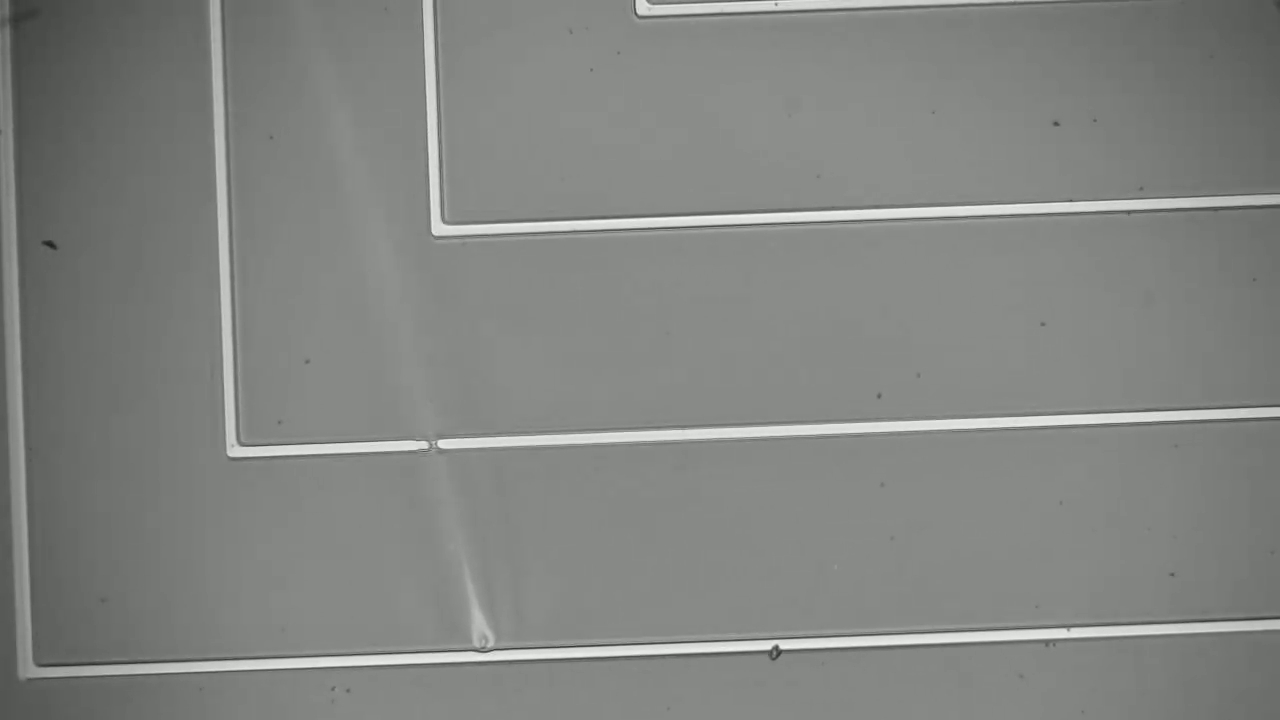open: (409, 431, 452, 458)
stains_enbedded: (755, 631, 795, 670)
